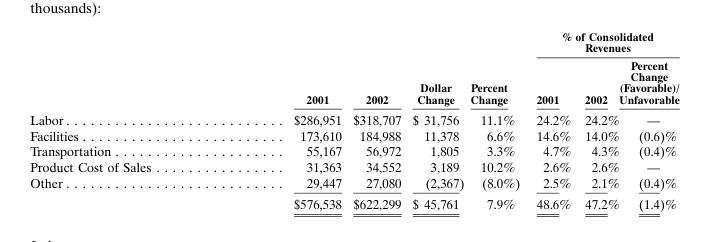table: (29, 29, 678, 211)
table column: (29, 29, 221, 211), (221, 29, 346, 211), (466, 29, 527, 211), (346, 29, 406, 211), (406, 29, 466, 211), (618, 29, 678, 211), (527, 29, 577, 211), (577, 29, 618, 211)
table column header: (29, 29, 678, 108)
table row: (29, 55, 678, 108), (29, 29, 678, 55), (29, 108, 678, 127), (29, 192, 678, 211), (29, 174, 678, 192), (29, 127, 678, 143), (29, 158, 678, 174), (29, 143, 678, 158)
table spanning cell: (221, 29, 346, 108), (466, 29, 527, 108), (346, 29, 406, 108), (406, 29, 466, 108), (527, 29, 678, 55)
